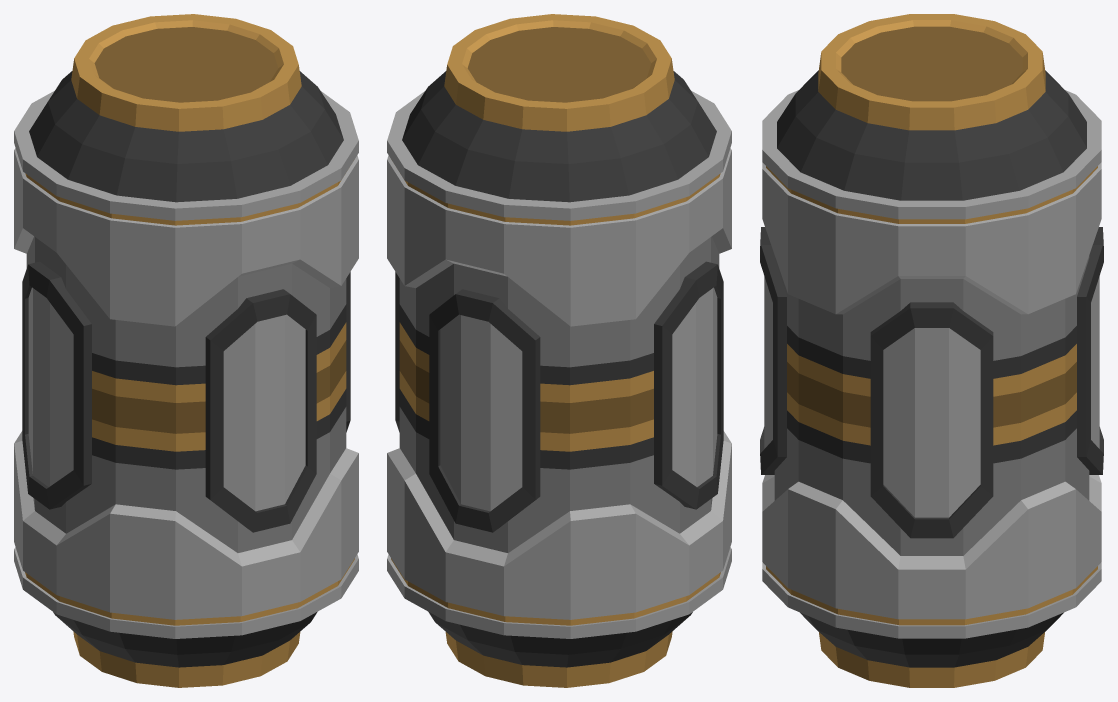
The model's file is Props_Capsule_GD.glb.
3 views of the same model, side by side, from view 1: azimuth 30°, elevation 25°; view 2: azimuth 150°, elevation 25°; view 3: azimuth 270°, elevation 25° (orthographic).
Visible parts, largest first — view 1: Props_Capsule; view 2: Props_Capsule; view 3: Props_Capsule.
Part boxes in pixels (box(x1,y1,x2,y2)): Props_Capsule: box(14, 14, 358, 687); Props_Capsule: box(387, 14, 731, 687); Props_Capsule: box(760, 14, 1103, 687).
Size of the model in its own units: 6.52 by 12.14 by 6.52.
